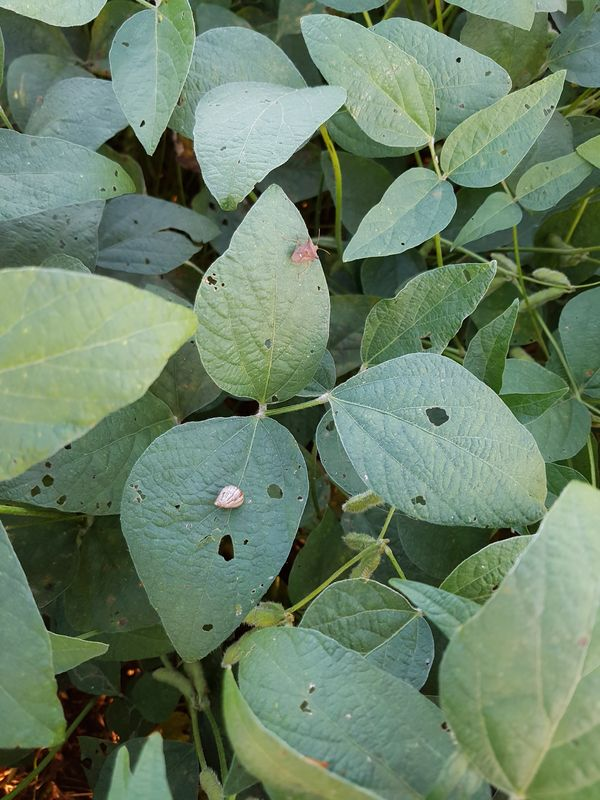Euschistus_heros_adulto: (286, 226, 333, 269)
Gastropoda: (207, 479, 250, 517)
